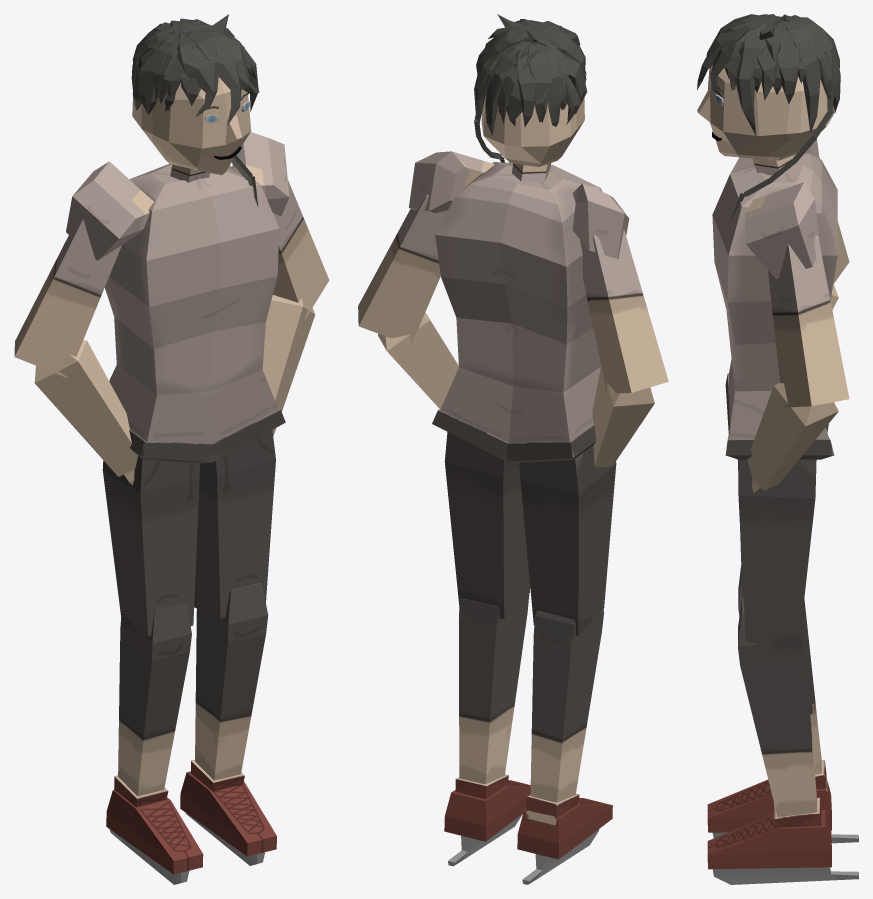
Rendered from ThePlayerPose.fbx.
3 views of the same model, side by side, from view 1: azimuth 30°, elevation 25°; view 2: azimuth 150°, elevation 25°; view 3: azimuth 270°, elevation 25° (orthographic). The views are drawn at different scales.
Parts seen in each view (by area): view 1: Cube.013; view 2: Cube.013; view 3: Cube.013.
Boxes of the visible parts, bbox=[...] form: Cube.013: bbox=[14, 14, 329, 884]; Cube.013: bbox=[358, 14, 668, 884]; Cube.013: bbox=[697, 14, 858, 884].
Bounding box in the file's own units: 216 × 549 × 94.57.
Materials: 12 (12 with a texture image).
